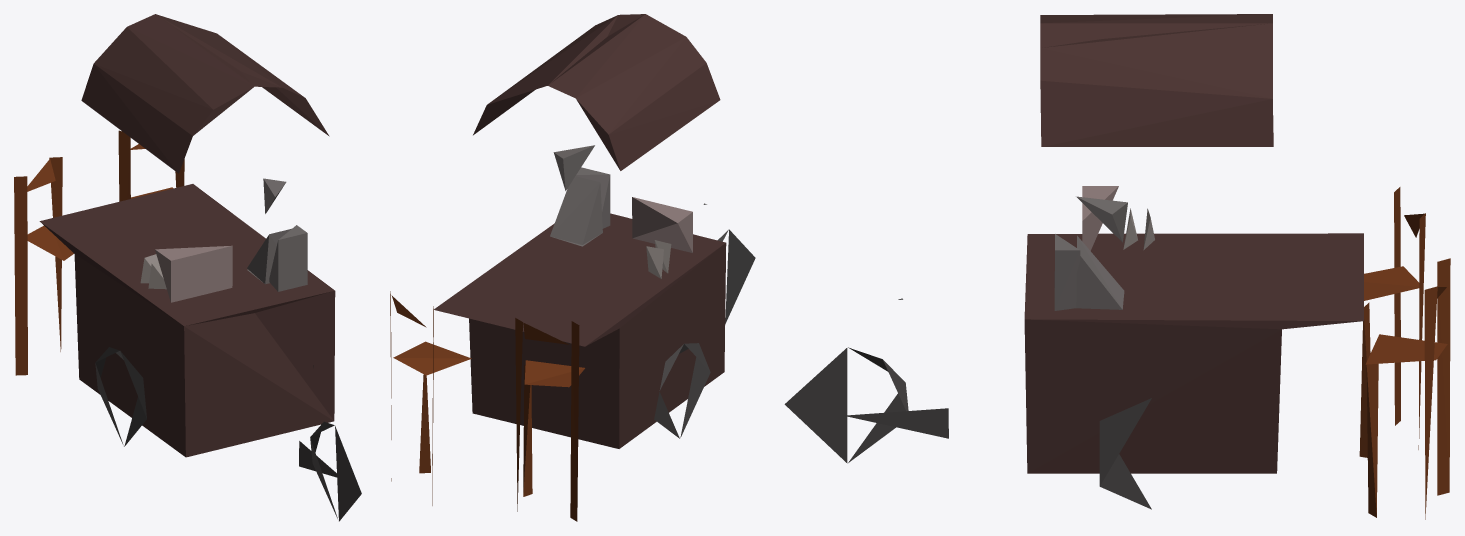
Rendered from coffee-cart.lod2.glb.
3 views of the same model, side by side, from view 1: azimuth 30°, elevation 25°; view 2: azimuth 150°, elevation 25°; view 3: azimuth 270°, elevation 25° (orthographic). The views are drawn at different scales.
Visible parts, largest first — view 1: bell_low_vehicle_0; view 2: bell_low_vehicle_0; view 3: bell_low_vehicle_0.
Boxes of the visible parts, x1,y1,x2,y2 form: bell_low_vehicle_0: [14, 14, 361, 521]; bell_low_vehicle_0: [390, 14, 755, 521]; bell_low_vehicle_0: [784, 14, 1450, 519].
Bounding box in the file's own units: 0.8734 × 1.75 × 2.37.
